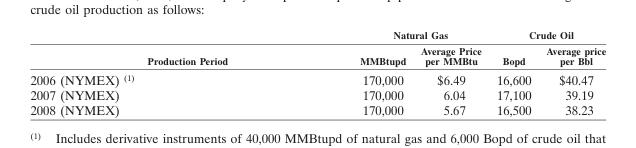table: (29, 28, 605, 117)
table column: (29, 28, 293, 117), (293, 28, 412, 117), (412, 28, 488, 117), (538, 28, 605, 117), (488, 28, 538, 117)
table column header: (29, 28, 605, 68)
table row: (29, 42, 605, 68), (29, 68, 605, 87), (29, 87, 605, 102), (29, 102, 605, 117), (29, 28, 605, 42)
table spanning cell: (29, 28, 293, 68), (293, 28, 488, 42), (488, 28, 605, 42)
